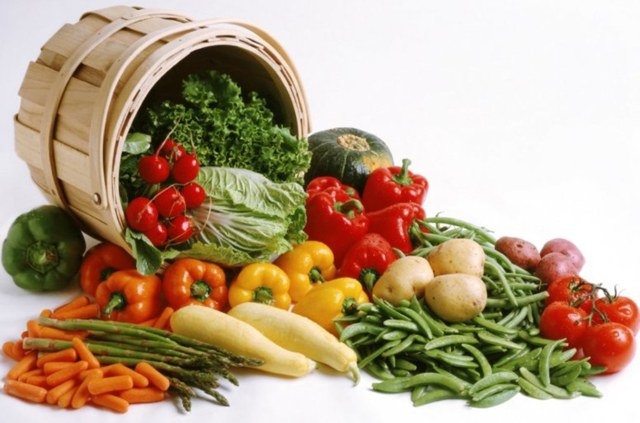tomato: (582, 309, 636, 374), (539, 299, 591, 352), (586, 284, 639, 336), (545, 274, 599, 315)
